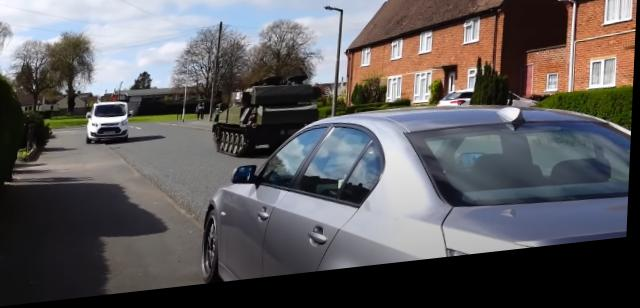tank: (221, 85, 305, 150)
